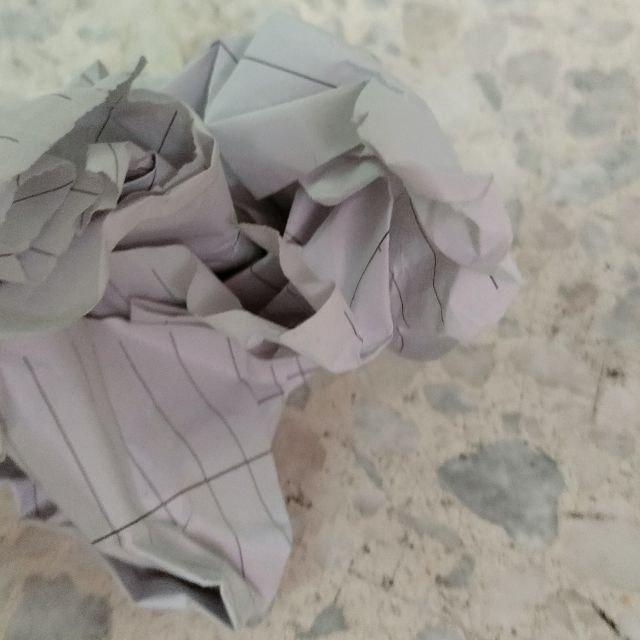paper: (0, 0, 529, 617)
